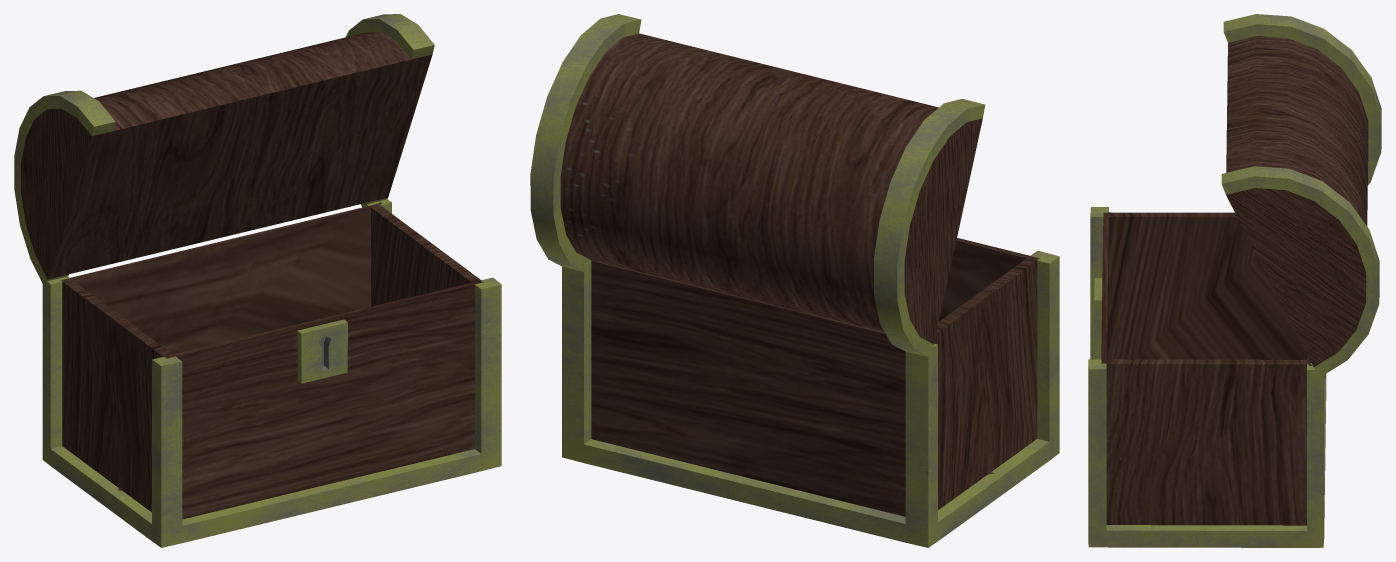
Rendered from ChestOpen.fbx.
3 renders of one model, left to right at view 1: azimuth 30°, elevation 25°; view 2: azimuth 150°, elevation 25°; view 3: azimuth 270°, elevation 25°, orthographic. The views are drawn at different scales.
Parts seen in each view (by area): view 1: Box, Lid; view 2: Box, Lid; view 3: Box, Lid.
Part boxes in pixels (x1,y1,x2,y2): Box: [42, 199, 501, 547]; Lid: [14, 14, 434, 286]; Box: [562, 238, 1059, 547]; Lid: [530, 14, 985, 357]; Box: [1088, 207, 1326, 547]; Lid: [1221, 14, 1381, 377].
Bounding box in the file's own units: 0.0736 × 0.0782 × 0.056.
Materials: 1 (1 with a texture image).
